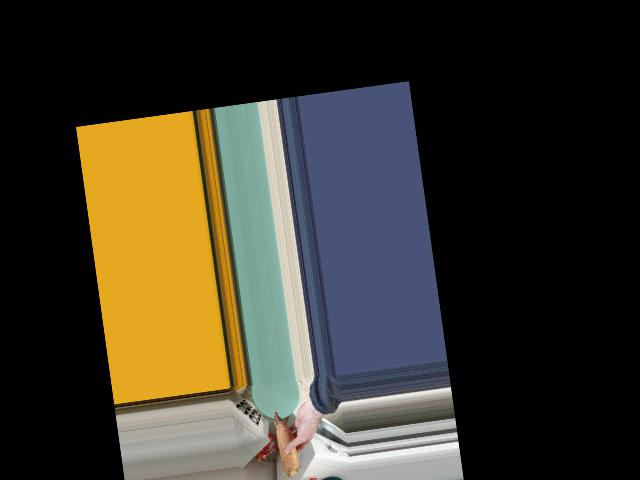sweet_potato: (274, 412, 301, 477)
